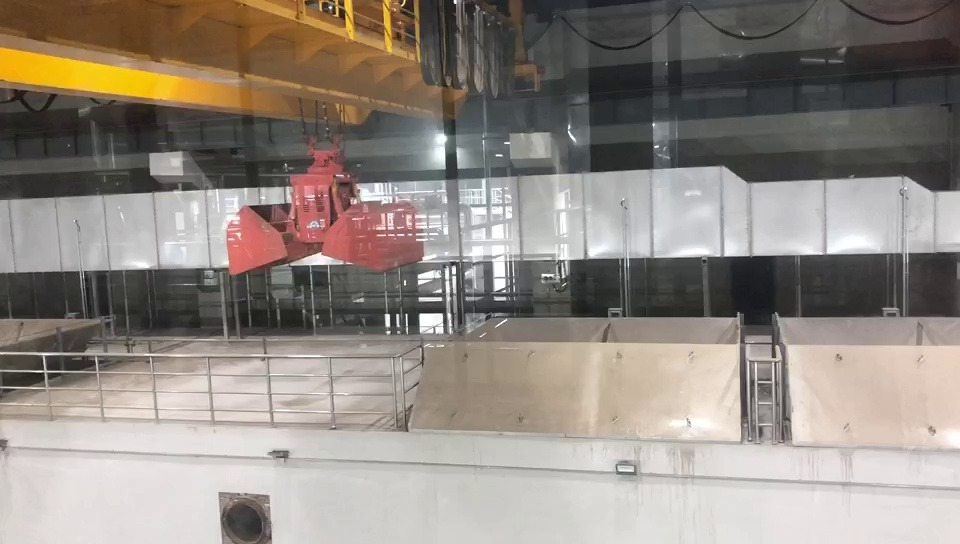grab: (221, 131, 429, 277)
